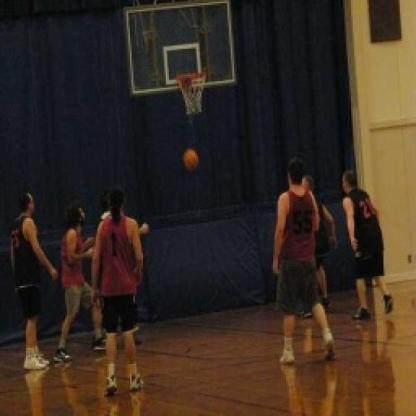basketball: (185, 151, 198, 168)
rim: (178, 71, 207, 114)
